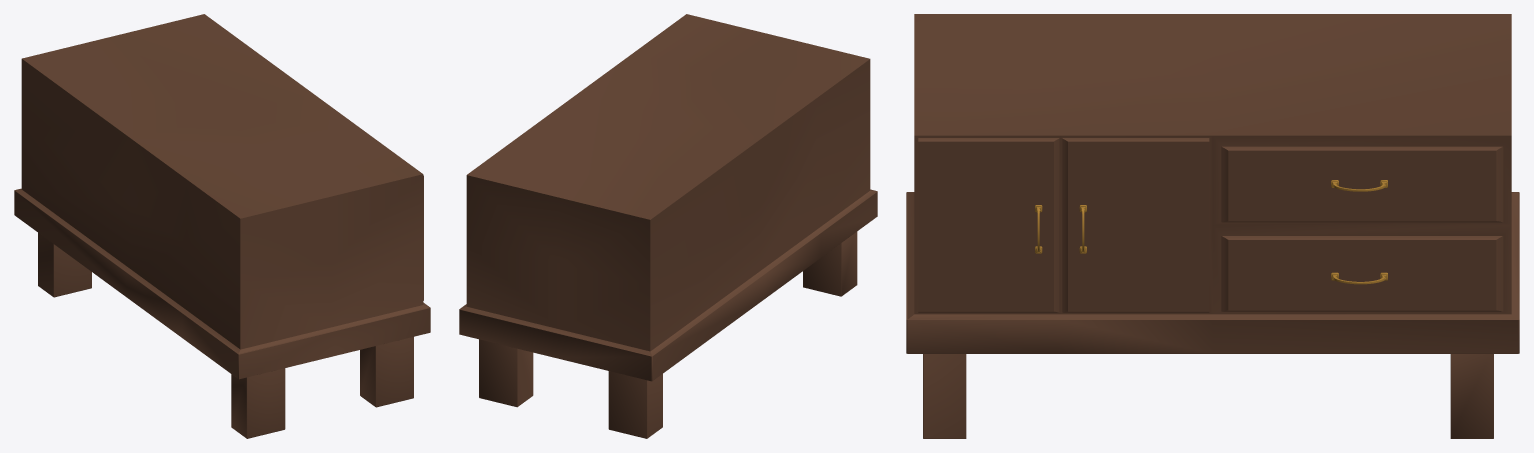
Rendered from LivCab2.fbx.
3 renders of one model, left to right at view 1: azimuth 30°, elevation 25°; view 2: azimuth 150°, elevation 25°; view 3: azimuth 270°, elevation 25°, orthographic. The views are drawn at different scales.
Visible parts, largest first — view 1: Cabinet'.001; view 2: Cabinet'.001; view 3: Cabinet'.001, Cabinet'.002.
Boxes of the visible parts, x1,y1,x2,y2 form: Cabinet'.001: (14, 14, 430, 438); Cabinet'.001: (459, 14, 877, 438); Cabinet'.001: (906, 14, 1519, 438); Cabinet'.002: (1221, 146, 1503, 222).
Bounding box in the file's own units: 70.96 × 76.09 × 138.
